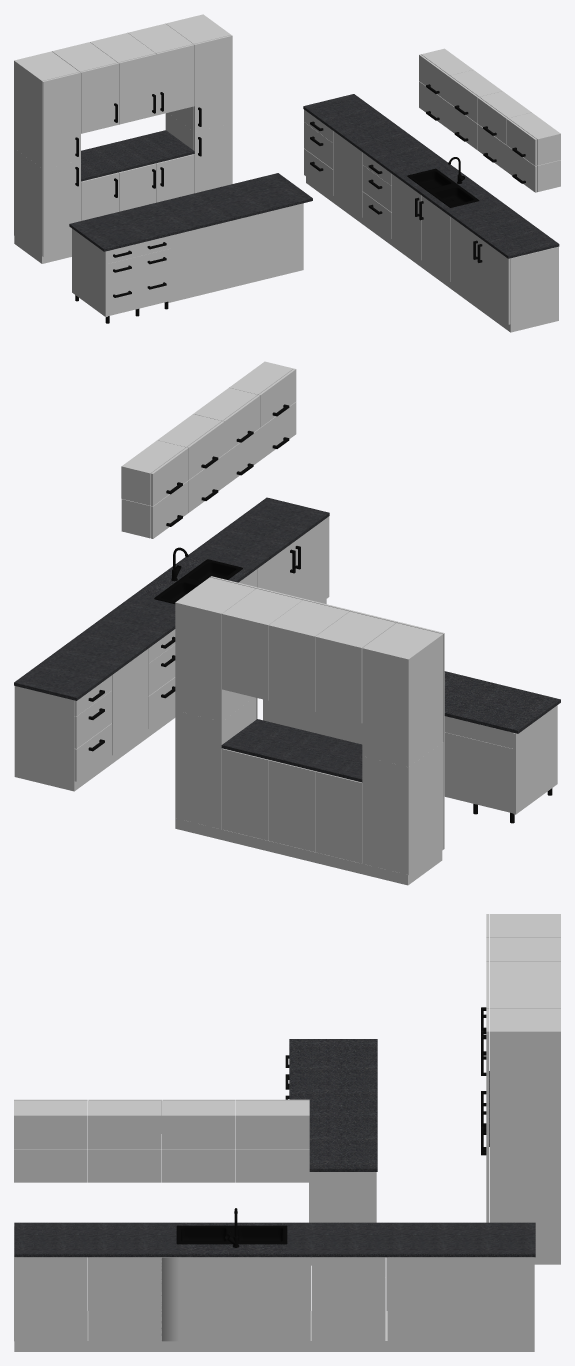
Rendered from Allowance.fbx.
The picture shows the model from 3 angles, top to bottom: view 1: azimuth 30°, elevation 25°; view 2: azimuth 150°, elevation 25°; view 3: azimuth 270°, elevation 25°; orthographic projection. The views are drawn at different scales.
Visible parts, largest first — view 1: cgaxis_models_86_17_02_2, cgaxis_models_86_17_01_55, cgaxis_models_86_17_02_1, cgaxis_models_86_17_01_1, cgaxis_models_86_17_01_11, cgaxis_models_86_17_01_17, cgaxis_models_86_17_01_29, cgaxis_models_86_17_02_3, cgaxis_models_86_17_01_12, cgaxis_models_86_17_01_10, cgaxis_models_86_17_01_16, cgaxis_models_86_17_01_18 (+39 smaller); view 2: cgaxis_models_86_17_02_2, cgaxis_models_86_17_01_1, cgaxis_models_86_17_01_10, cgaxis_models_86_17_01_5, cgaxis_models_86_17_01_6, cgaxis_models_86_17_01_2, cgaxis_models_86_17_01_3, cgaxis_models_86_17_01_4, cgaxis_models_86_17_01_35, cgaxis_models_86_17_02_3, cgaxis_models_86_17_02_1, cgaxis_models_86_17_01_9 (+30 smaller); view 3: cgaxis_models_86_17_02_2, cgaxis_models_86_17_01_31, cgaxis_models_86_17_02_1, cgaxis_models_86_17_01_5, cgaxis_models_86_17_01_6, cgaxis_models_86_17_01_33, cgaxis_models_86_17_01_29, cgaxis_models_86_17_01_30, cgaxis_models_86_17_01_35, cgaxis_models_86_17_01_34, cgaxis_models_86_17_01_64, cgaxis_models_86_17_01_24 (+13 smaller).
Part boxes in pixels (x1,y1,x2,y2): cgaxis_models_86_17_02_2: (303, 94, 559, 258); cgaxis_models_86_17_01_55: (168, 203, 303, 302); cgaxis_models_86_17_02_1: (69, 173, 312, 251); cgaxis_models_86_17_01_1: (14, 51, 79, 167); cgaxis_models_86_17_01_11: (42, 72, 80, 169); cgaxis_models_86_17_01_17: (194, 35, 232, 132); cgaxis_models_86_17_01_29: (510, 246, 558, 324); cgaxis_models_86_17_02_3: (81, 130, 194, 181); cgaxis_models_86_17_01_12: (42, 160, 80, 256); cgaxis_models_86_17_01_10: (14, 148, 42, 255); cgaxis_models_86_17_01_16: (194, 123, 232, 193); cgaxis_models_86_17_01_18: (156, 44, 194, 115); cgaxis_models_86_17_02_2: (14, 497, 329, 700); cgaxis_models_86_17_01_1: (362, 623, 442, 767); cgaxis_models_86_17_01_10: (362, 742, 443, 874); cgaxis_models_86_17_01_5: (175, 577, 255, 721); cgaxis_models_86_17_01_6: (175, 697, 255, 829); cgaxis_models_86_17_01_2: (315, 611, 395, 723); cgaxis_models_86_17_01_3: (268, 600, 349, 711); cgaxis_models_86_17_01_4: (222, 588, 302, 700); cgaxis_models_86_17_01_35: (14, 686, 74, 780); cgaxis_models_86_17_02_3: (221, 719, 362, 782); cgaxis_models_86_17_02_1: (444, 671, 560, 733); cgaxis_models_86_17_01_9: (315, 771, 362, 863); cgaxis_models_86_17_02_2: (14, 1222, 535, 1257); cgaxis_models_86_17_01_31: (161, 1257, 310, 1341); cgaxis_models_86_17_02_1: (289, 1039, 377, 1171); cgaxis_models_86_17_01_5: (489, 1008, 560, 1142); cgaxis_models_86_17_01_6: (489, 1142, 560, 1253); cgaxis_models_86_17_01_33: (311, 1257, 385, 1341); cgaxis_models_86_17_01_29: (14, 1228, 87, 1341); cgaxis_models_86_17_01_30: (88, 1257, 161, 1341); cgaxis_models_86_17_01_35: (461, 1257, 534, 1341); cgaxis_models_86_17_01_34: (387, 1257, 460, 1341); cgaxis_models_86_17_01_64: (14, 1311, 534, 1351); cgaxis_models_86_17_01_24: (14, 1101, 87, 1148).
Size of the model in its own units: 164 by 84.12 by 176.
Materials: 5 (1 with a texture image).
